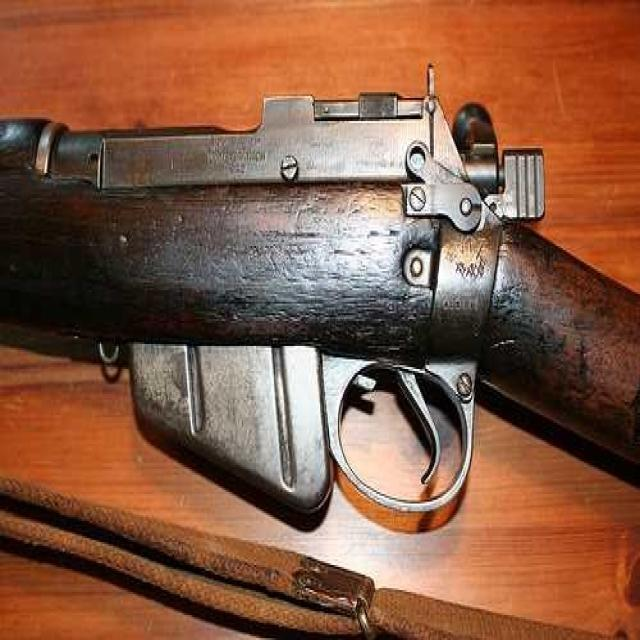heavyweapon: (1, 61, 619, 516)
